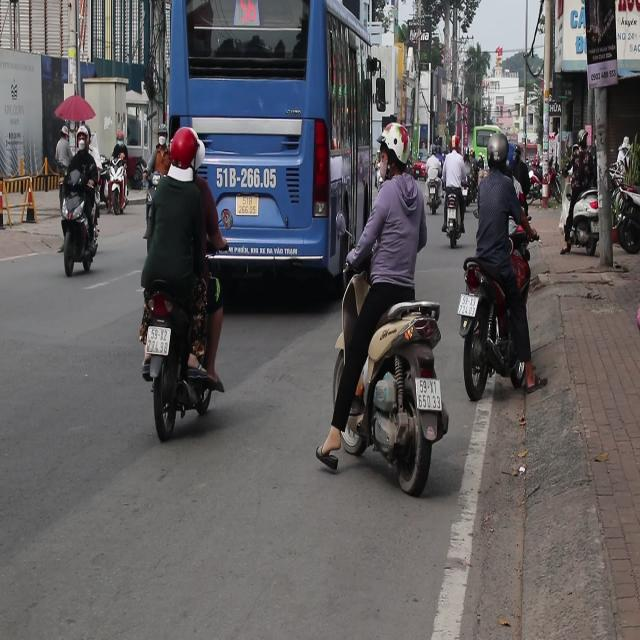bus: (163, 2, 370, 269), (465, 120, 506, 166)
motorbike: (286, 294, 444, 502), (128, 256, 218, 432), (451, 249, 547, 412), (59, 174, 102, 276), (562, 187, 602, 256), (612, 177, 640, 258), (105, 152, 132, 216), (442, 193, 470, 250), (428, 178, 444, 217), (412, 159, 427, 181), (527, 184, 541, 207)
